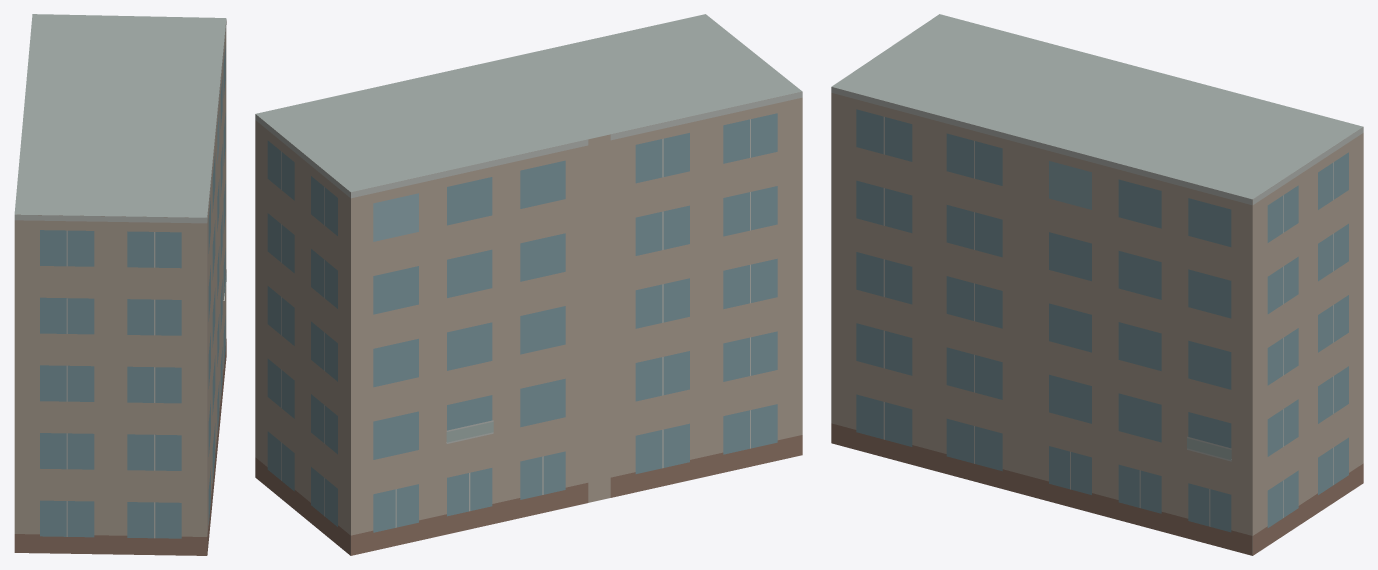
Rendered from survey-upis-32506758.glb.
3 views of the same model, side by side, from view 1: azimuth 30°, elevation 25°; view 2: azimuth 150°, elevation 25°; view 3: azimuth 270°, elevation 25° (orthographic). The views are drawn at different scales.
Parts seen in each view (by area): view 1: survey-upis-32506758.tmp; view 2: survey-upis-32506758.tmp; view 3: survey-upis-32506758.tmp.
Boxes of the visible parts, x1,y1,x2,y2 form: survey-upis-32506758.tmp: [14, 14, 226, 555]; survey-upis-32506758.tmp: [255, 14, 802, 555]; survey-upis-32506758.tmp: [831, 14, 1363, 555].
Size of the model in its own units: 16.3 by 14.6 by 19.77.
